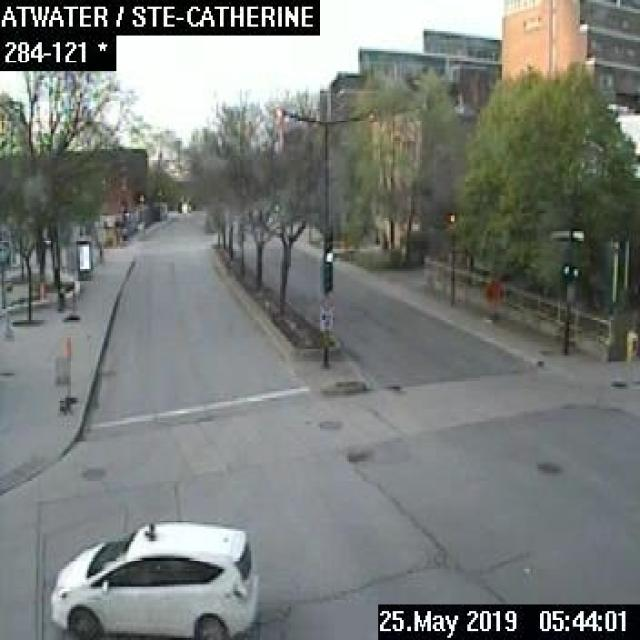construction: (483, 282, 496, 318)
vehicle: (44, 513, 256, 638), (98, 631, 182, 638)
